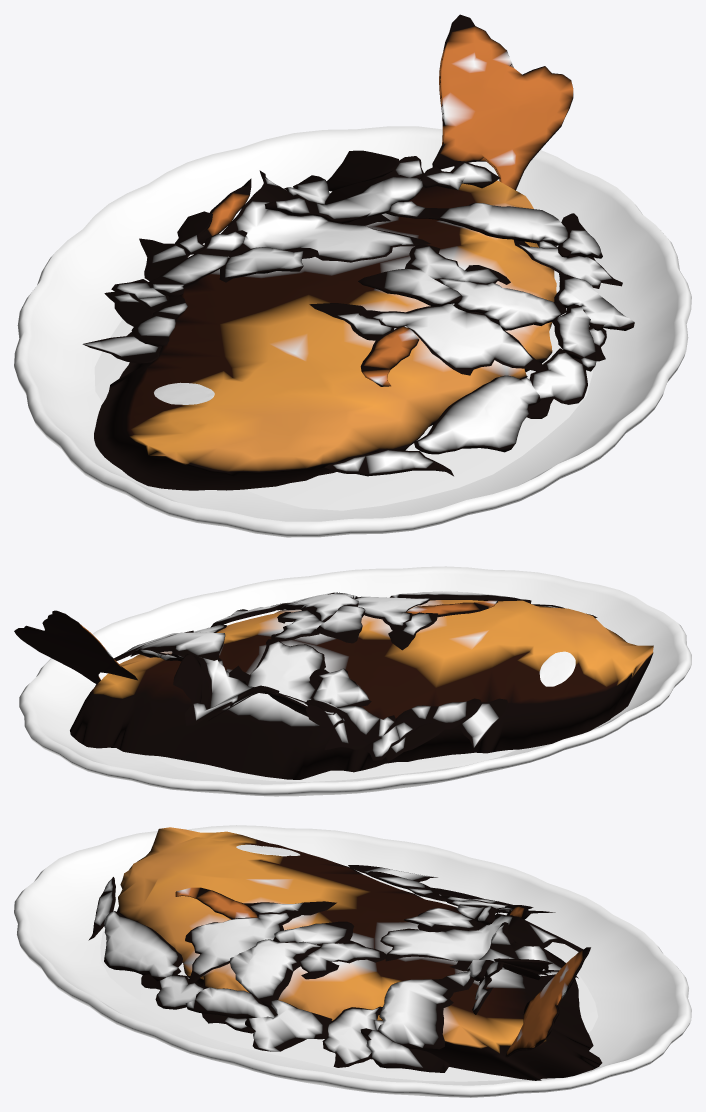
The picture shows the model from 3 angles, top to bottom: view 1: azimuth 30°, elevation 25°; view 2: azimuth 150°, elevation 25°; view 3: azimuth 270°, elevation 25°; orthographic projection. The views are drawn at different scales.
Visible parts, largest first — view 1: SM_D12; view 2: SM_D12; view 3: SM_D12.
Part boxes in pixels (x1,y1,x2,y2): SM_D12: (14, 14, 691, 537); SM_D12: (14, 566, 691, 796); SM_D12: (14, 825, 691, 1097).
Size of the model in its own units: 0.268 by 0.0717 by 0.2895.
